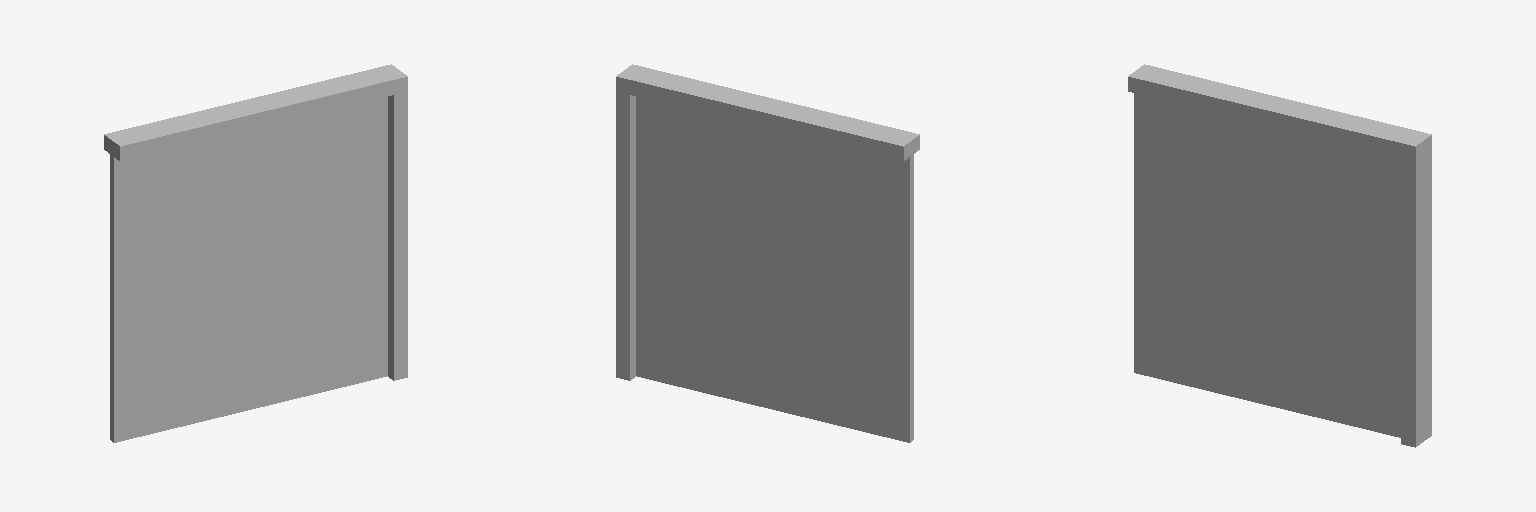
Rendered from orient_rice_wallpaper.obj.
3 renders of one model, left to right at view 1: azimuth 30°, elevation 25°; view 2: azimuth 150°, elevation 25°; view 3: azimuth 330°, elevation 25°, orthographic.
Visible parts, largest first — view 1: geometry; view 2: geometry; view 3: geometry.
Boxes of the visible parts, x1=… form: geometry: x1=104, y1=64, x2=407, y2=442; geometry: x1=616, y1=64, x2=919, y2=442; geometry: x1=1128, y1=64, x2=1431, y2=447.
Bounding box in the file's own units: 1 × 1 × 0.1.